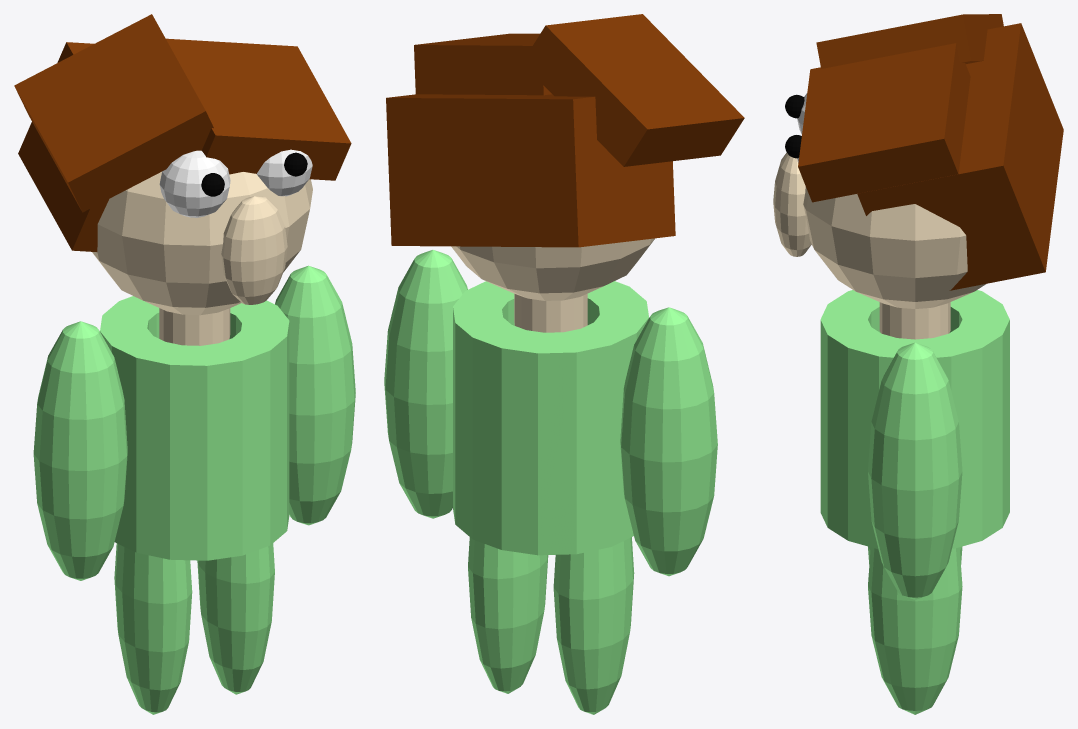
Rendered from player_baldi.glb.
The picture shows the model from 3 angles, left to right: view 1: azimuth 30°, elevation 25°; view 2: azimuth 150°, elevation 25°; view 3: azimuth 270°, elevation 25°; orthographic projection. The views are drawn at different scales.
Parts seen in each view (by area): view 1: Object_5, Object_3, Object_4, Object_2, Object_6; view 2: Object_5, Object_3, Object_4; view 3: Object_5, Object_3, Object_4, Object_6.
Part boxes in pixels (bbox=[...]): Object_5: bbox=[33, 265, 355, 714]; Object_3: bbox=[14, 14, 351, 251]; Object_4: bbox=[92, 171, 312, 345]; Object_2: bbox=[159, 149, 312, 217]; Object_6: bbox=[201, 152, 307, 196]; Object_5: bbox=[384, 250, 717, 714]; Object_3: bbox=[386, 14, 744, 247]; Object_4: bbox=[451, 238, 654, 332]; Object_5: bbox=[820, 290, 1009, 714]; Object_3: bbox=[798, 14, 1063, 290]; Object_4: bbox=[773, 152, 985, 339]; Object_6: bbox=[785, 94, 804, 158].
Size of the model in its own units: 1.89 by 3.91 by 1.54.
